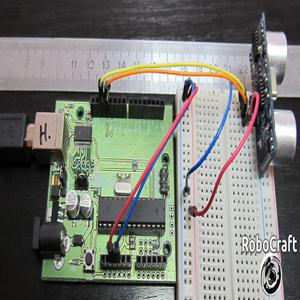duino: (32, 70, 179, 284)
